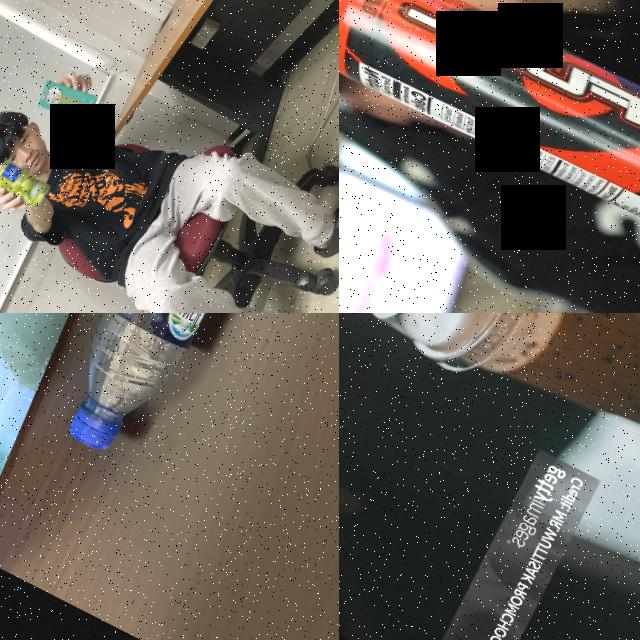bottle: (34, 313, 339, 485)
can: (339, 0, 640, 288), (0, 156, 55, 213)
cup: (339, 313, 640, 490)
